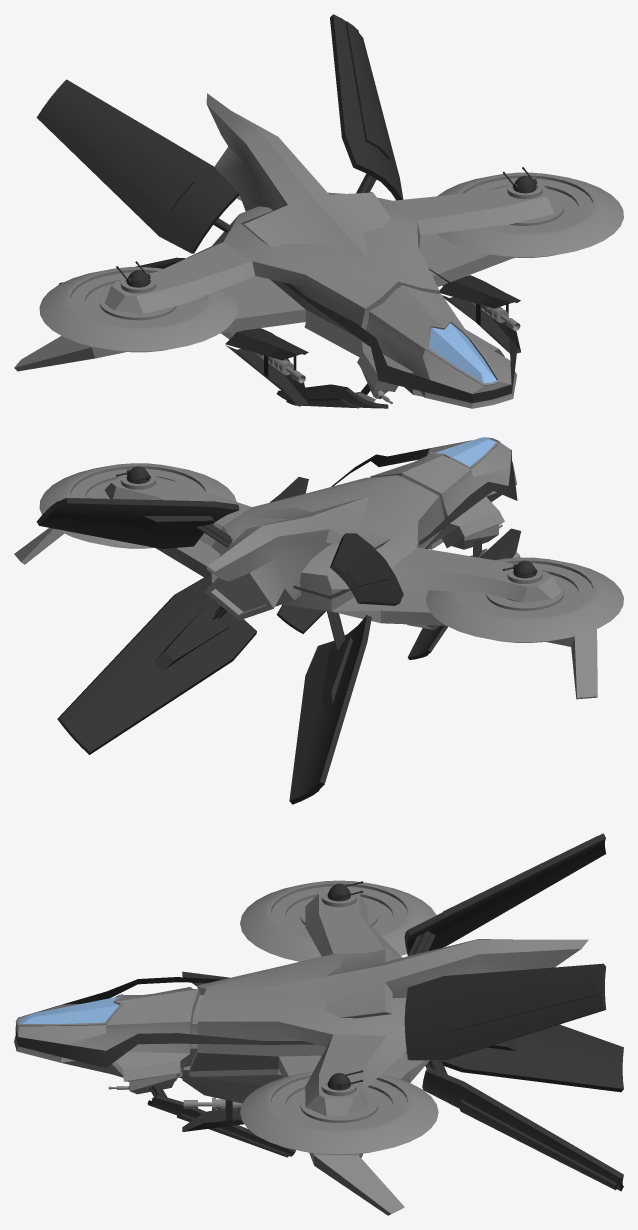
The model's file is Echelon.glb.
3 renders of one model, top to bottom at view 1: azimuth 30°, elevation 25°; view 2: azimuth 150°, elevation 25°; view 3: azimuth 270°, elevation 25°, orthographic.
Parts seen in each view (by area): view 1: Плоскость; view 2: Плоскость; view 3: Плоскость.
Part boxes in pixels (x1,y1,x2,y2): Плоскость: [14, 14, 623, 408]; Плоскость: [14, 437, 623, 804]; Плоскость: [14, 833, 623, 1215].
Size of the model in its own units: 0.9924 by 0.3948 by 0.8963.
